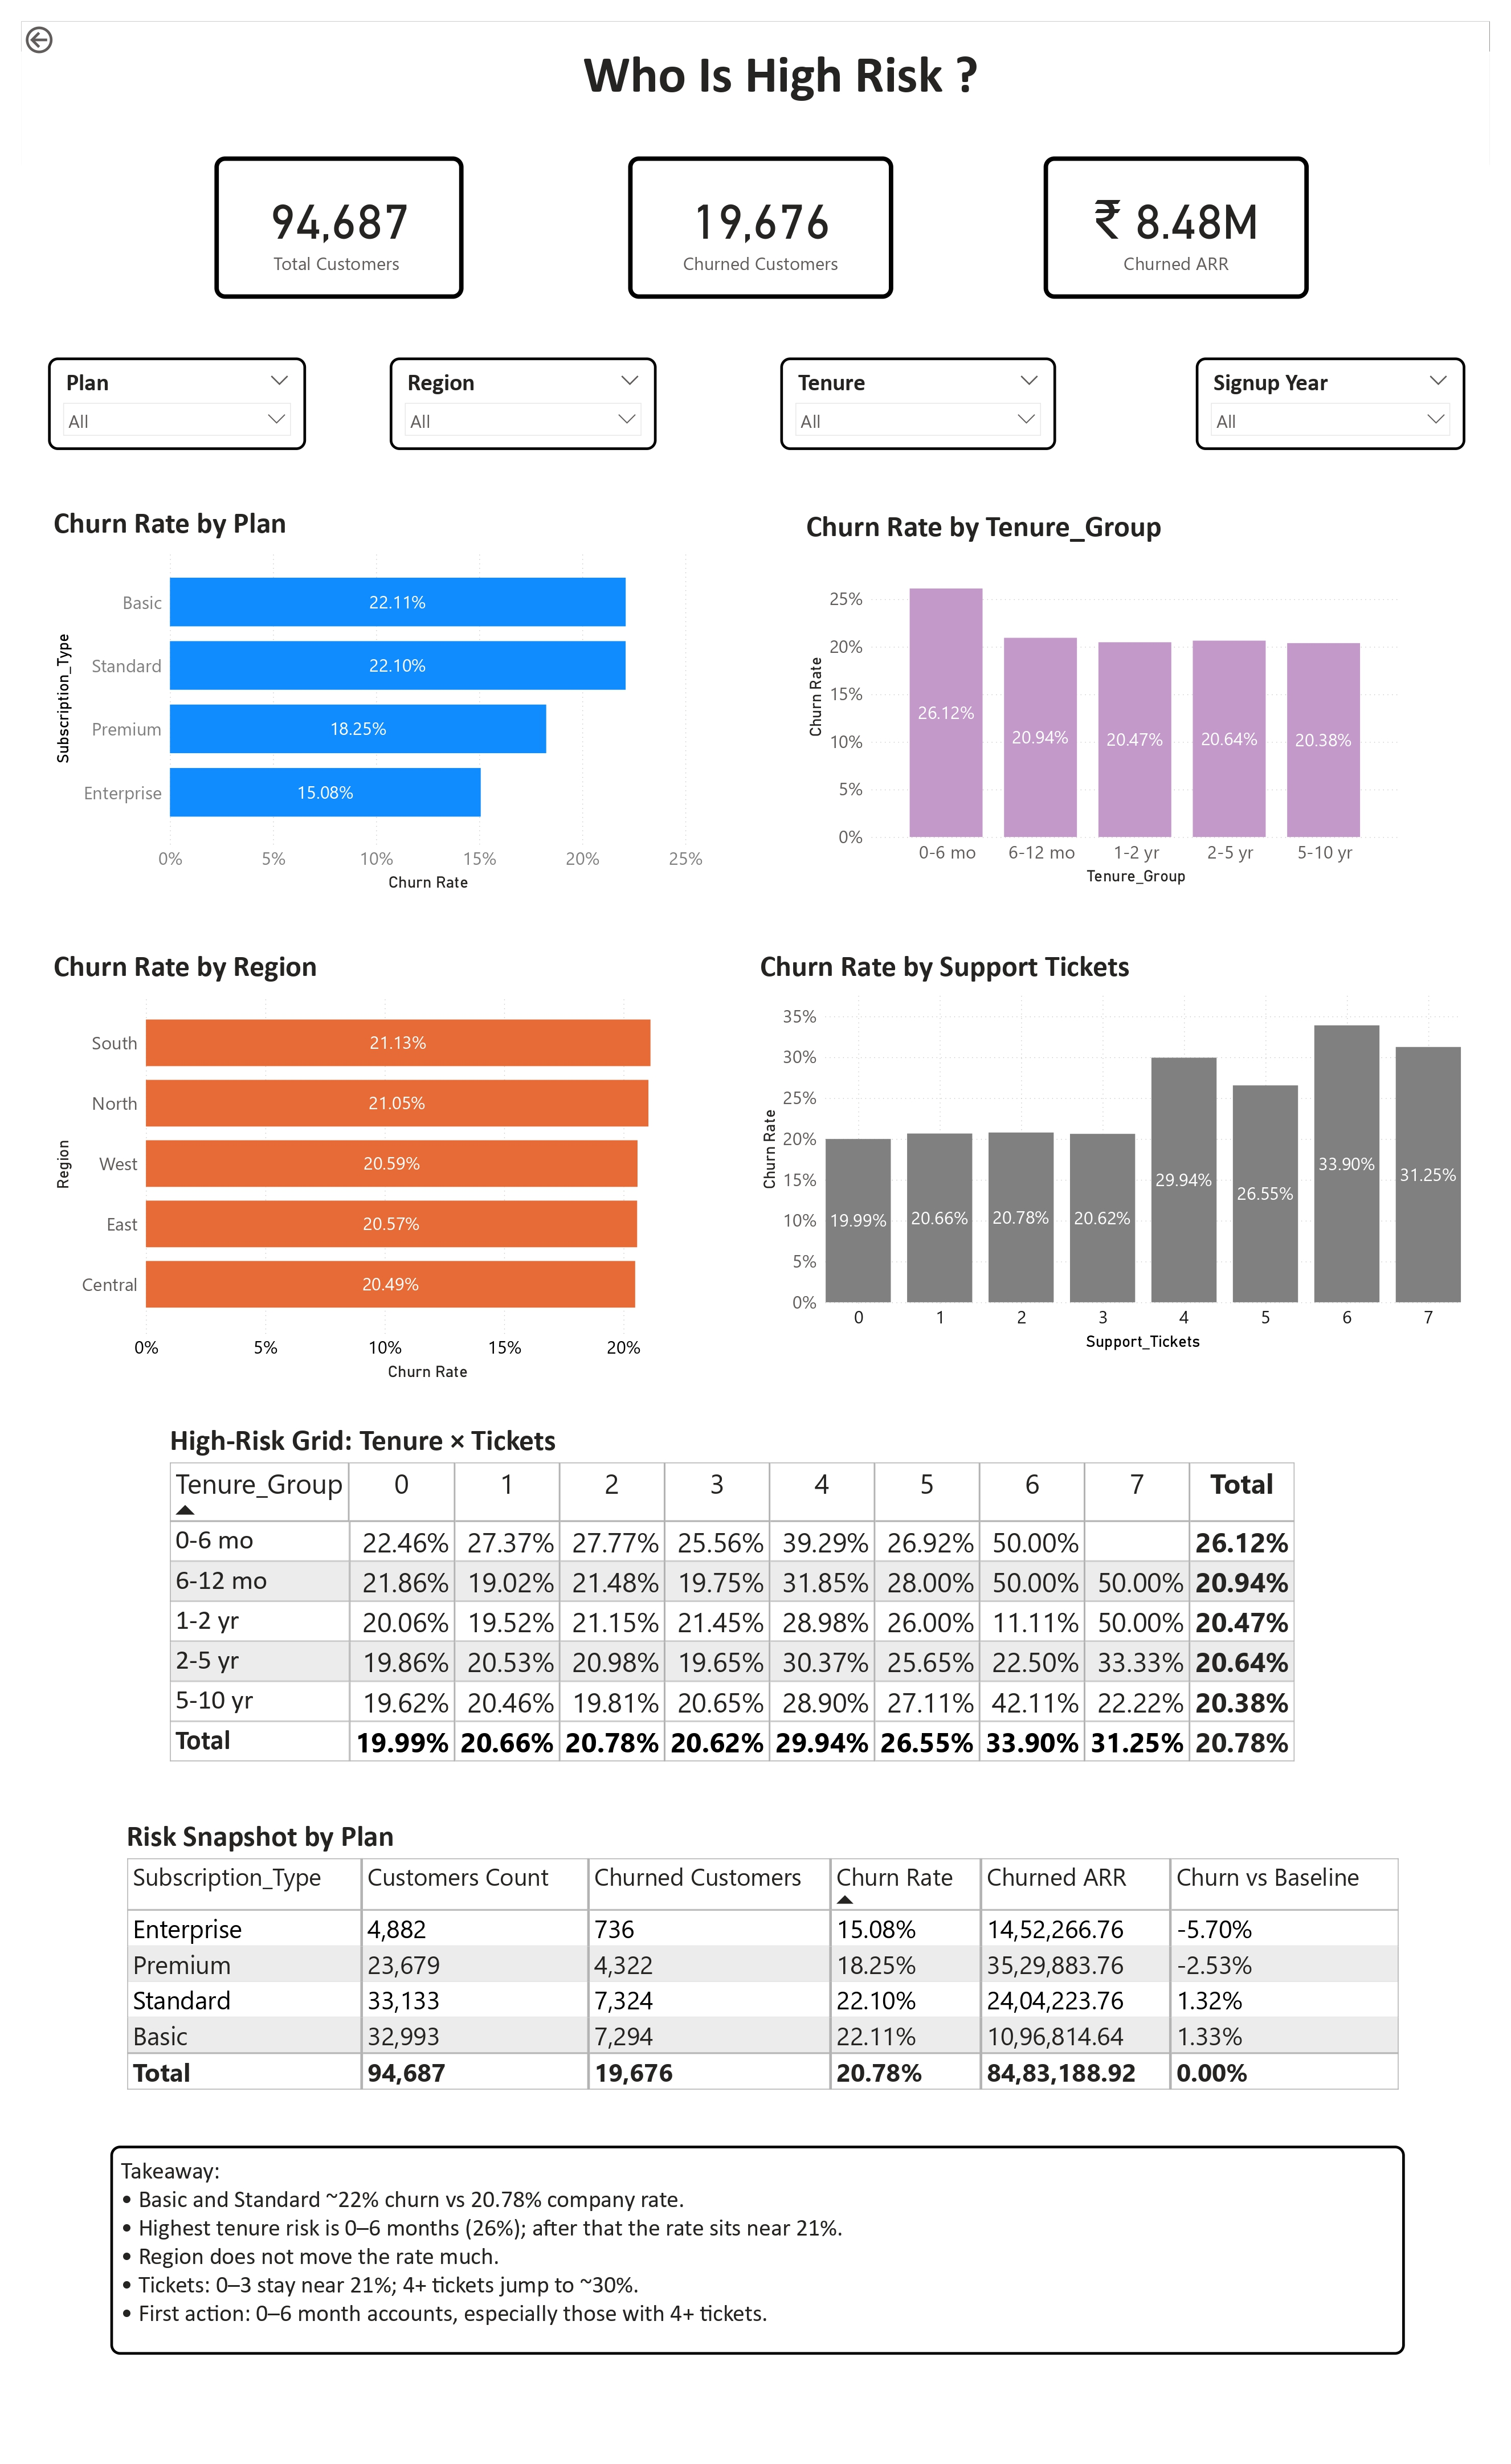

The dashboard page shown, as its layout file describes it:
{"tool":"powerbi","page":{"name":"Page 2","canvas":[1650,2720],"ordinal":1},"visuals":[{"type":"card","fields":{"Values":["customers.Customers Count"]},"box":[217.1,151.4,280,160],"z":0},{"type":"card","fields":{"Values":["customers.Churned Customers"]},"box":[681.5,150.8,298.5,160],"z":1000},{"type":"card","fields":{"Values":["customers.Churned ARR"]},"box":[1148.6,151.4,298.6,160],"z":2000},{"type":"textbox","box":[626.4,16.7,609.7,93.1],"z":3000},{"type":"slicer","fields":{"Values":["customers.Subscription_Type"]},"box":[30,377.1,290,104.3],"z":4000},{"type":"slicer","title":"Region","fields":{"Values":["customers.Region"]},"box":[414.3,377.1,300,104.3],"z":5000},{"type":"slicer","fields":{"Values":["customers.Tenure_Group"]},"box":[852.9,377.1,310,104.3],"z":6000},{"type":"slicer","fields":{"Values":["customers.Signup_Year"]},"box":[1320,377.1,302.9,104.3],"z":7000},{"type":"clusteredBarChart","title":"Churn Rate by Plan","fields":{"Y":["customers.Churn Rate"],"Category":["customers.Subscription_Type"]},"box":[30.8,541.5,741.5,440],"z":8000},{"type":"clusteredBarChart","fields":{"Category":["customers.Region"],"Y":["customers.Churn Rate"]},"box":[30.8,1040,767.7,492.3],"z":9000},{"type":"clusteredColumnChart","title":"Churn Rate by Support Tickets","fields":{"Category":["customers.Support_Tickets"],"Y":["customers.Churn Rate"]},"box":[825,1040,798.3,458.3],"z":10000},{"type":"clusteredColumnChart","fields":{"Category":["customers.Tenure_Group"],"Y":["customers.Churn Rate"]},"box":[876.9,546.2,678.5,429.2],"z":11000},{"type":"pivotTable","title":"High-Risk Grid: Tenure × Tickets","fields":{"Rows":["customers.Tenure_Group"],"Columns":["customers.Support_Tickets"],"Values":["customers.Churn Rate"]},"box":[161.7,1573.3,1310,418.3],"z":12000},{"type":"tableEx","title":"Risk Snapshot by Plan","fields":{"Values":["customers.Subscription_Type","customers.Customers Count","customers.Churned Customers","customers.Churn Rate","customers.Churned ARR","customers.Churn vs Baseline"]},"box":[113.3,2018.3,1441.7,313.3],"z":13000},{"type":"actionButton","box":[0,0,100,40],"z":14000},{"type":"textbox","box":[100,2386.6,1455.2,235.8],"z":16000}]}

Visuals, with their boxes on the page's 1650x2720 design canvas (x1, y1, x2, y2). These are canvas units, not pixel positions in the 1511x2464 screenshot, which may show the page scaled, cropped or inside an application window:
card - customers.Customers Count: select_region(217, 151, 497, 311)
card - customers.Churned Customers: select_region(682, 151, 980, 311)
card - customers.Churned ARR: select_region(1149, 151, 1447, 311)
textbox: select_region(626, 17, 1236, 110)
slicer - customers.Subscription_Type: select_region(30, 377, 320, 481)
"Region" slicer: select_region(414, 377, 714, 481)
slicer - customers.Tenure_Group: select_region(853, 377, 1163, 481)
slicer - customers.Signup_Year: select_region(1320, 377, 1623, 481)
"Churn Rate by Plan" clusteredBarChart: select_region(31, 542, 772, 982)
clusteredBarChart - customers.Region x customers.Churn Rate: select_region(31, 1040, 798, 1532)
"Churn Rate by Support Tickets" clusteredColumnChart: select_region(825, 1040, 1623, 1498)
clusteredColumnChart - customers.Tenure_Group x customers.Churn Rate: select_region(877, 546, 1555, 975)
"High-Risk Grid: Tenure × Tickets" pivotTable: select_region(162, 1573, 1472, 1992)
"Risk Snapshot by Plan" tableEx: select_region(113, 2018, 1555, 2332)
actionButton: select_region(0, 0, 100, 40)
textbox: select_region(100, 2387, 1555, 2622)
